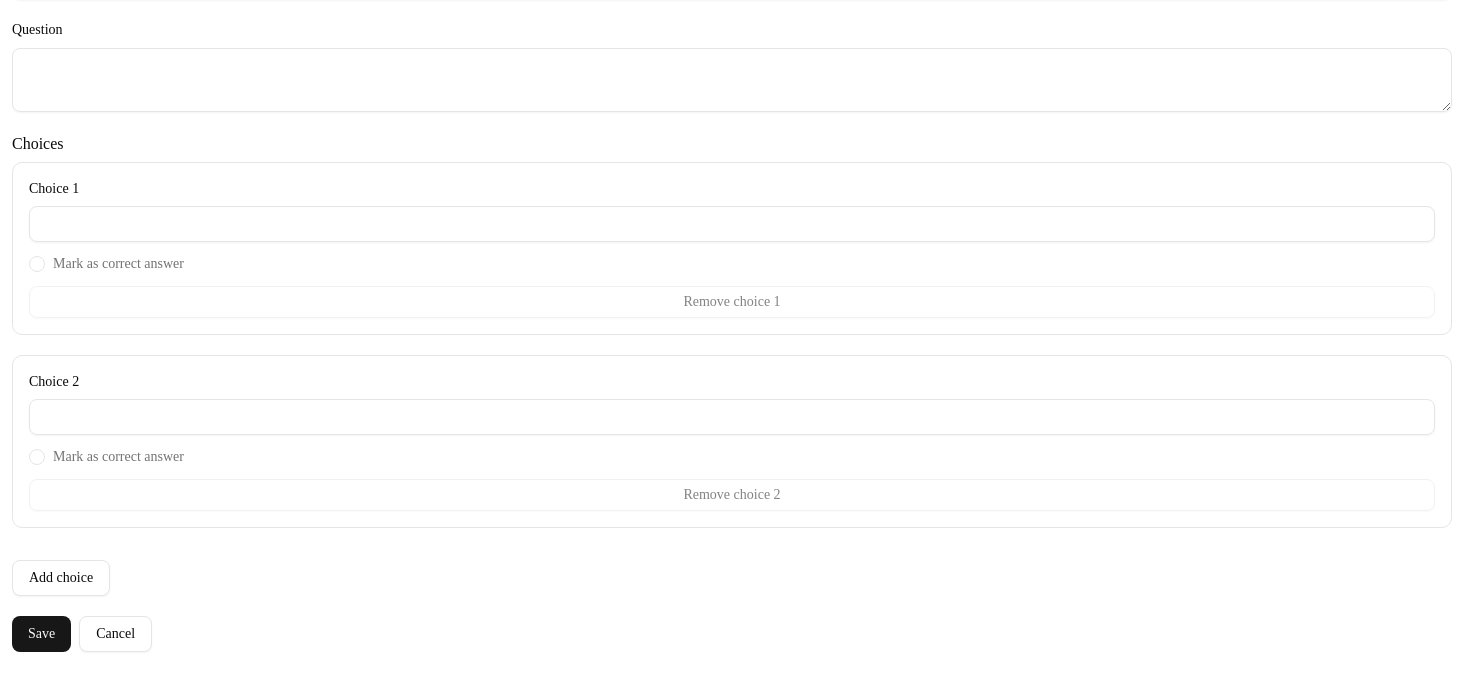
Test: McqForm create mode › adds choices up to six and disables Add Choice at the limit
The width and height of the screenshot is (1464, 691).
Click the button "Add choice" at (61, 578), box [12,560,110,596]
(page scrolled)
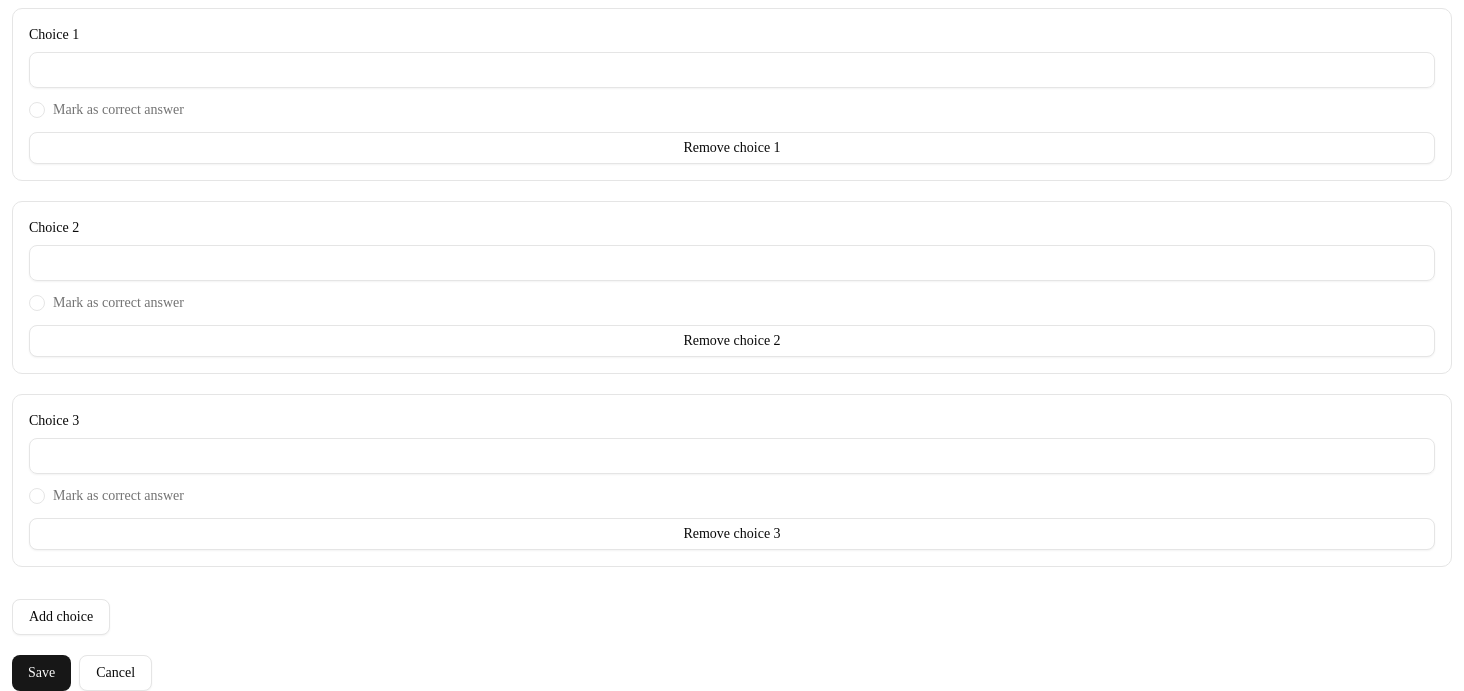
Click the button "Add choice" at (61, 617), box [12,599,110,635]
(page scrolled)
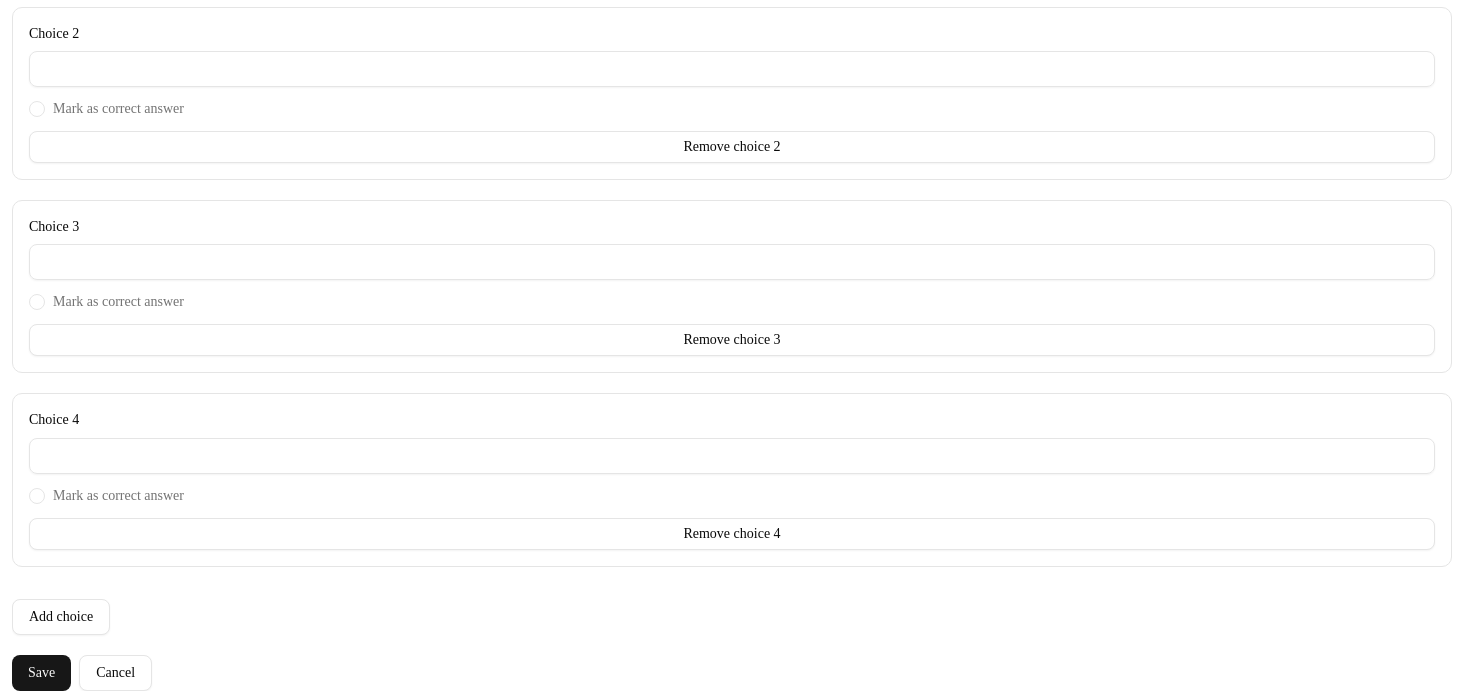
Click the button "Add choice" at (61, 616), box [12,598,110,634]
(page scrolled)
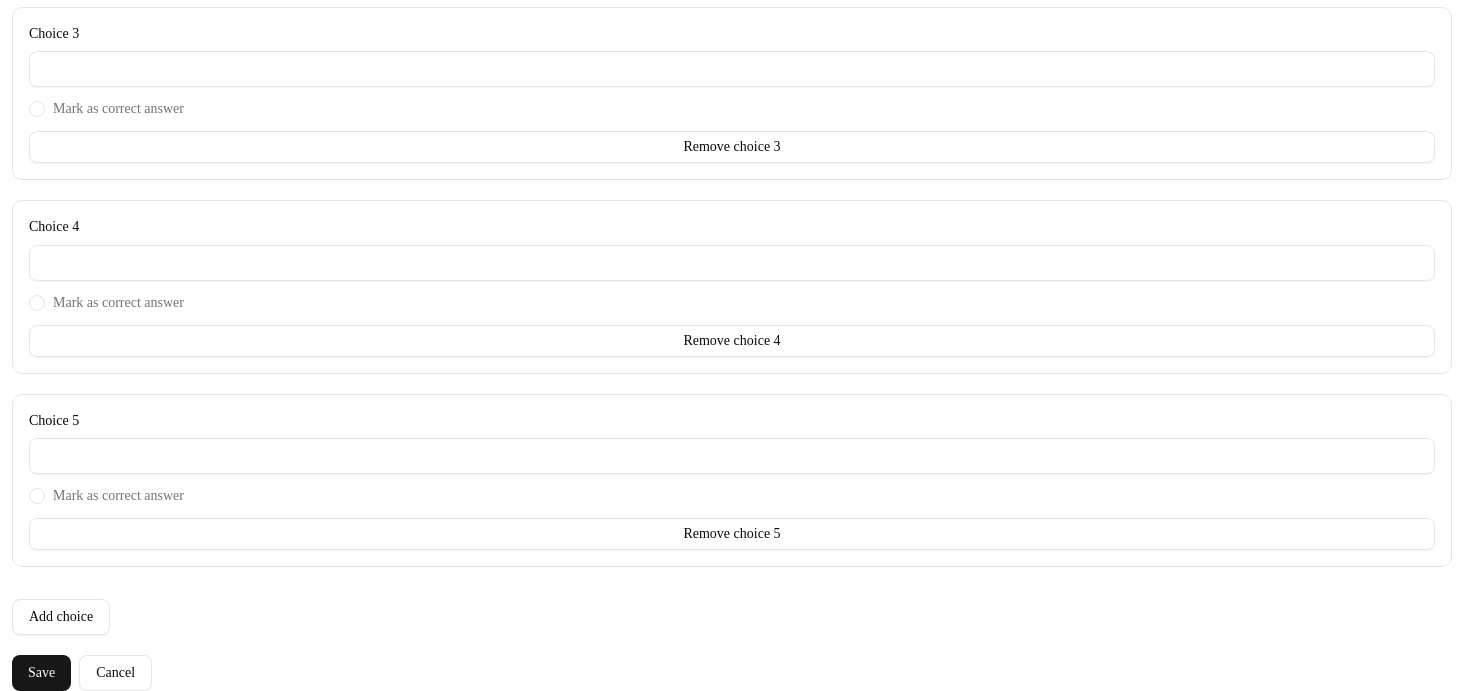
Click the button "Add choice" at (61, 617), box [12,599,110,635]
(page scrolled)
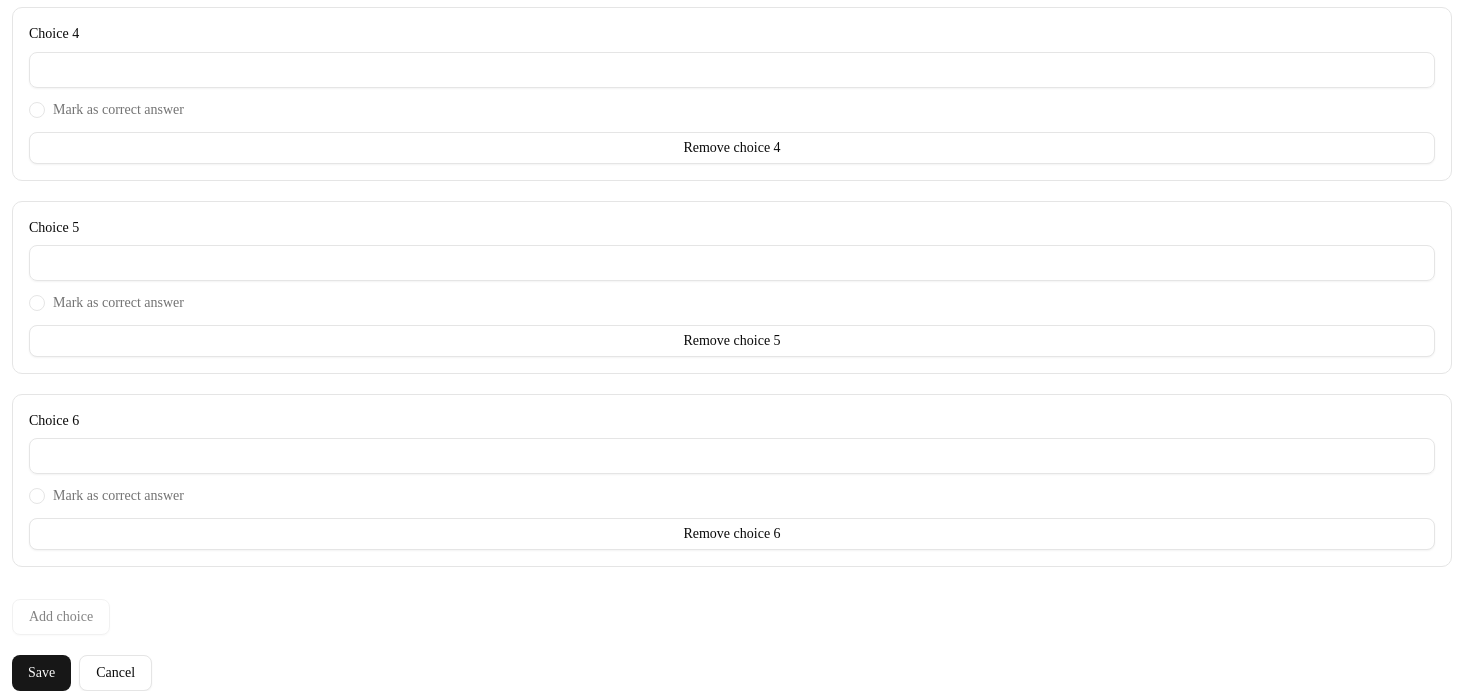
Expected: the field labelled "Choice 6" is shown, [29,438,1435,474]
Expected: the button "Add choice" is disabled, [12,599,110,635]
